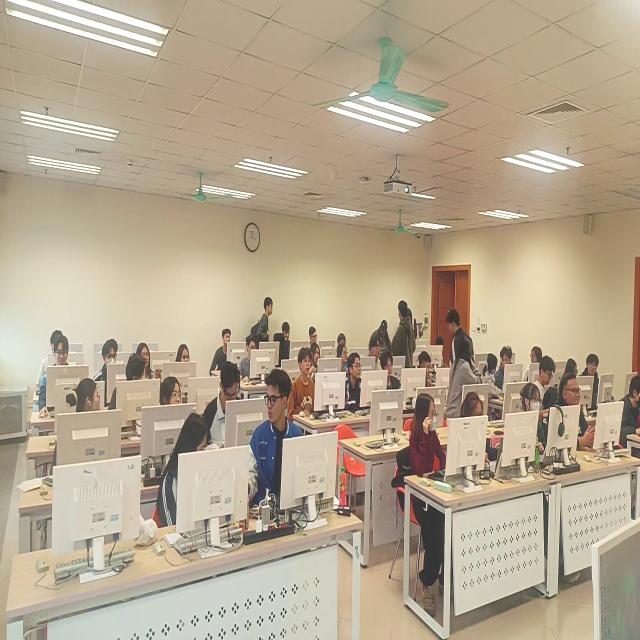raise_head: (553, 368, 597, 452), (519, 378, 548, 460), (290, 347, 315, 414), (346, 348, 367, 407), (91, 339, 119, 383), (206, 328, 234, 371), (158, 369, 184, 407), (136, 338, 155, 381), (174, 341, 192, 366), (369, 335, 381, 370), (310, 342, 322, 374), (336, 344, 348, 373)
stand: (446, 307, 473, 366), (395, 300, 417, 368), (253, 286, 274, 345), (375, 314, 393, 351)
using_computer: (202, 360, 241, 446), (458, 391, 493, 473), (409, 394, 443, 477), (39, 333, 70, 420), (619, 373, 640, 452), (35, 330, 60, 392), (536, 357, 557, 408), (237, 333, 257, 381), (381, 350, 399, 391), (418, 350, 435, 388), (279, 318, 292, 365), (565, 359, 578, 375), (309, 325, 319, 344)
